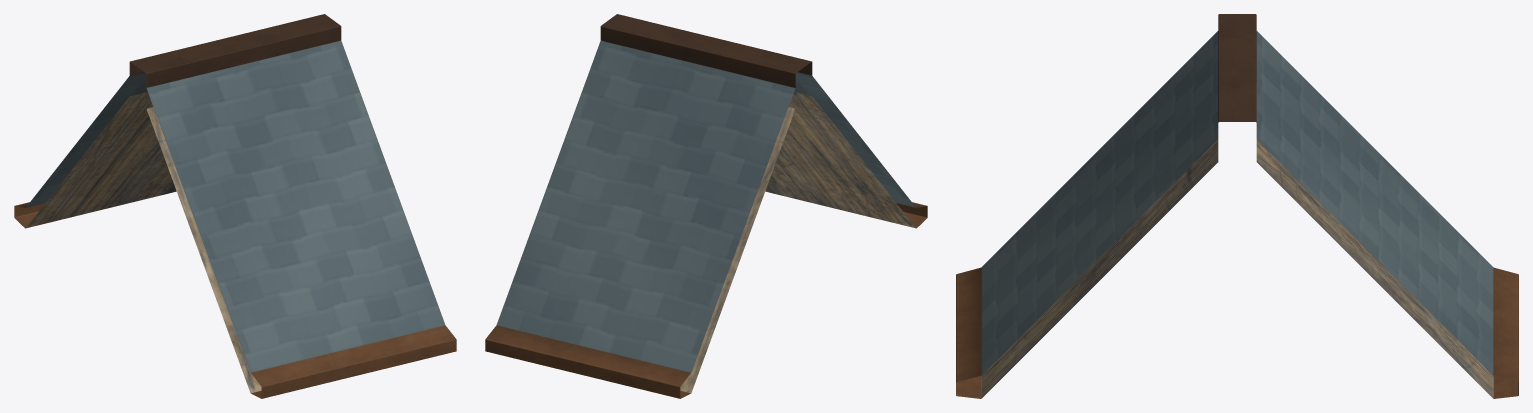
Rendered from BW_Cottage01_EaveWide.fbx.
3 views of the same model, side by side, from view 1: azimuth 30°, elevation 25°; view 2: azimuth 150°, elevation 25°; view 3: azimuth 270°, elevation 25° (orthographic). The views are drawn at different scales.
Parts seen in each view (by area): view 1: BW_Cottage01_EaveWide; view 2: BW_Cottage01_EaveWide; view 3: BW_Cottage01_EaveWide.
Boxes of the visible parts, x1=… form: BW_Cottage01_EaveWide: x1=14, y1=14, x2=456, y2=398; BW_Cottage01_EaveWide: x1=485, y1=14, x2=927, y2=398; BW_Cottage01_EaveWide: x1=956, y1=14, x2=1518, y2=398.
Size of the model in its own units: 2 by 2.39 by 4.4.
